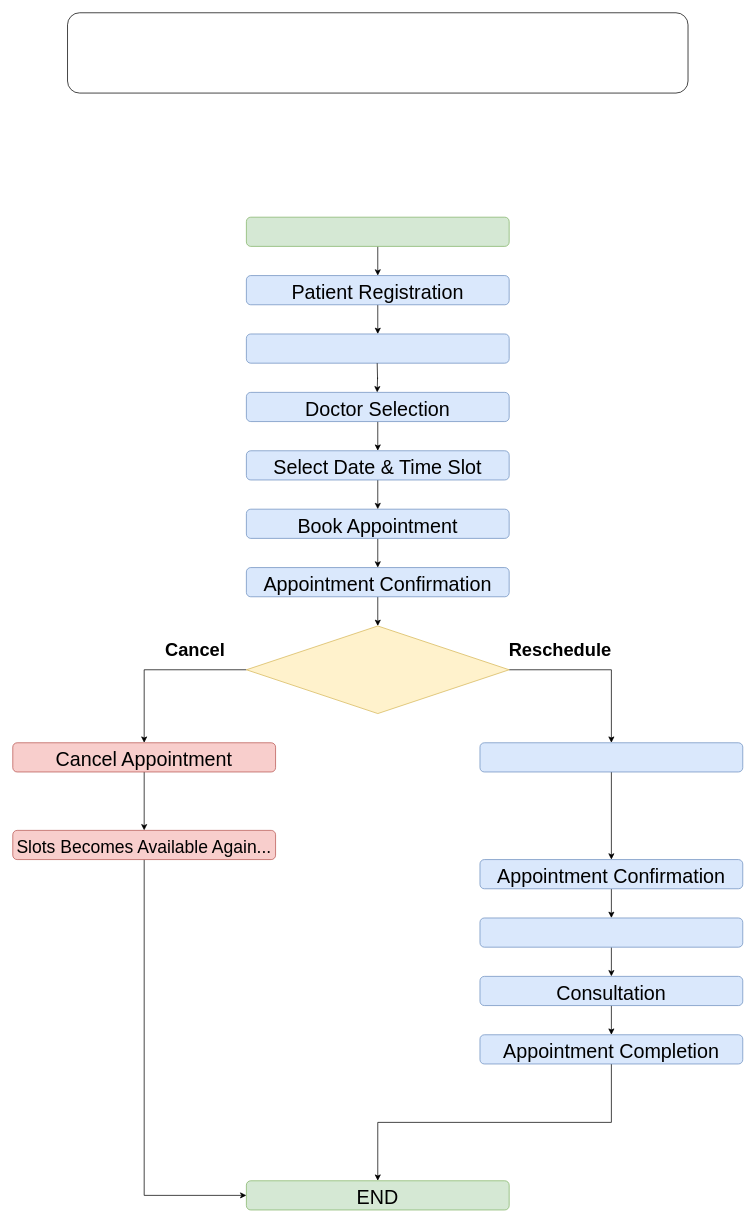
The diagram is 756 pixels wide and 1223 high, and some of its shapes have lost their labels. Each missing label, with the centre of its shape:
"APPOINTMENT - WORKFLOW" belongs at point 377,52.
"Cancel / Reschedule?" belongs at point 377,669.
"Department Selection" belongs at point 377,348.
"Patient Check-In" belongs at point 611,932.
"Select New Date & Time Slot" belongs at point 611,757.
"START" belongs at point 377,231.
